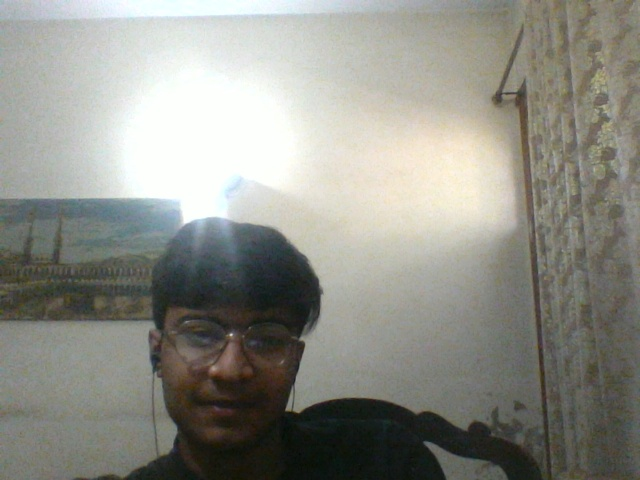neutral: (156, 296, 292, 453)
